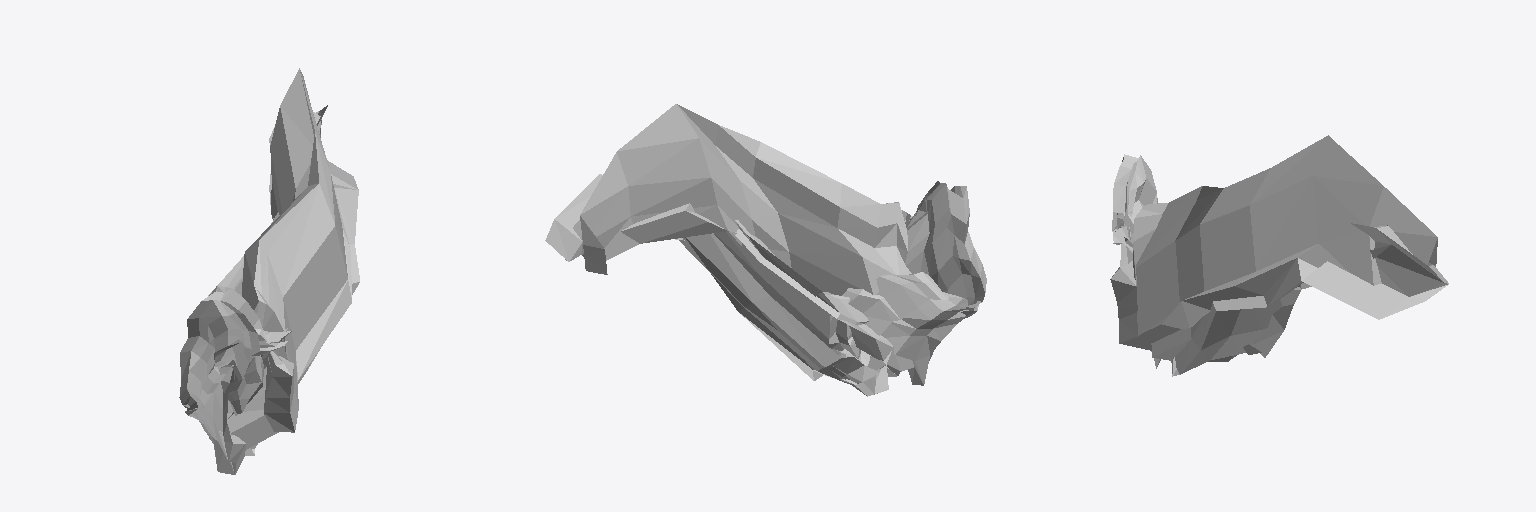
File: Sphereoutout.obj
3 renders of one model, left to right at view 1: azimuth 30°, elevation 25°; view 2: azimuth 150°, elevation 25°; view 3: azimuth 270°, elevation 25°, orthographic.
Size of the model in its own units: 1023 by 1023 by 1023.